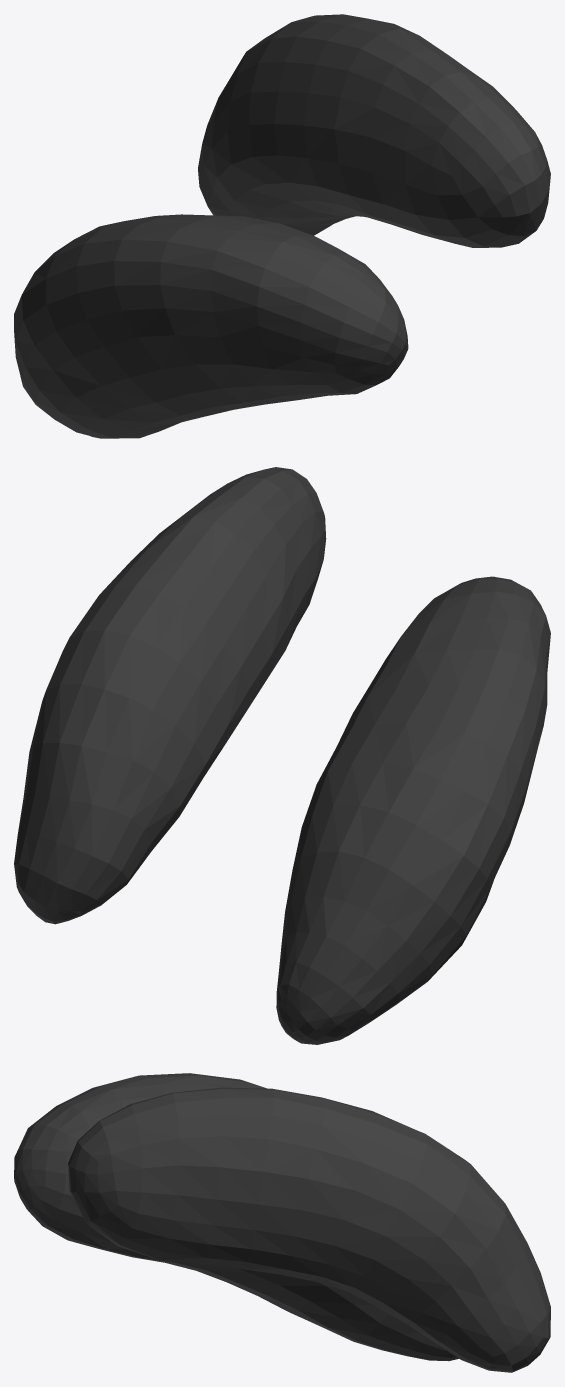
Rendered from Palmar_sesamoid_3.glb.
3 views of the same model, one above another, from view 1: azimuth 30°, elevation 25°; view 2: azimuth 150°, elevation 25°; view 3: azimuth 270°, elevation 25° (orthographic). The views are drawn at different scales.
Visible parts, largest first — view 1: Palmar_sesamoid_3; view 2: Palmar_sesamoid_3; view 3: Palmar_sesamoid_3.
Part boxes in pixels (box(x1,y1,x2,y2)): Palmar_sesamoid_3: box(14, 14, 550, 438); Palmar_sesamoid_3: box(14, 467, 550, 1044); Palmar_sesamoid_3: box(14, 1073, 550, 1372).
Bounding box in the file's own units: 0.1094 × 0.1061 × 0.1454.
1 material, 1 textured.
